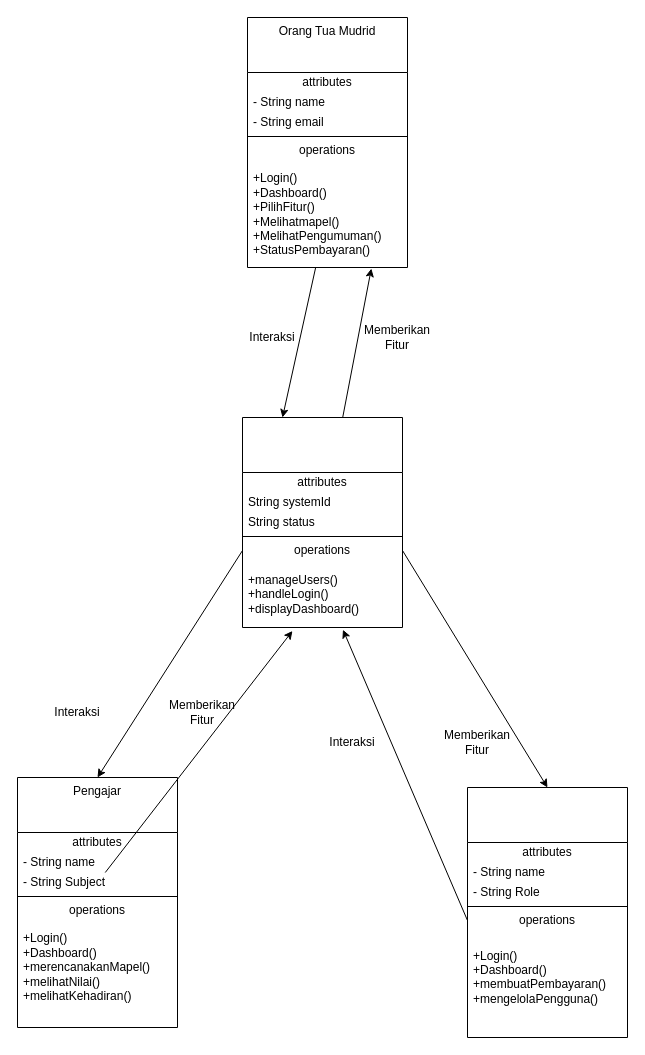
The diagram is 645 pixels wide and 1055 high, and some of its shapes have lost their labels. The box of each missing label's shape, as (x1, y1, x2, y2) in pixels:
Admin: (466, 786, 628, 1038)
Sistem: (242, 416, 402, 628)
